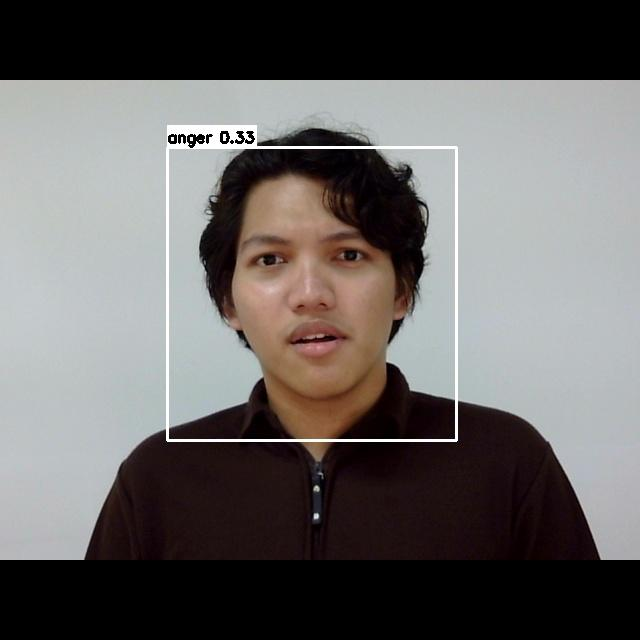Surprised: (216, 202, 418, 396)
